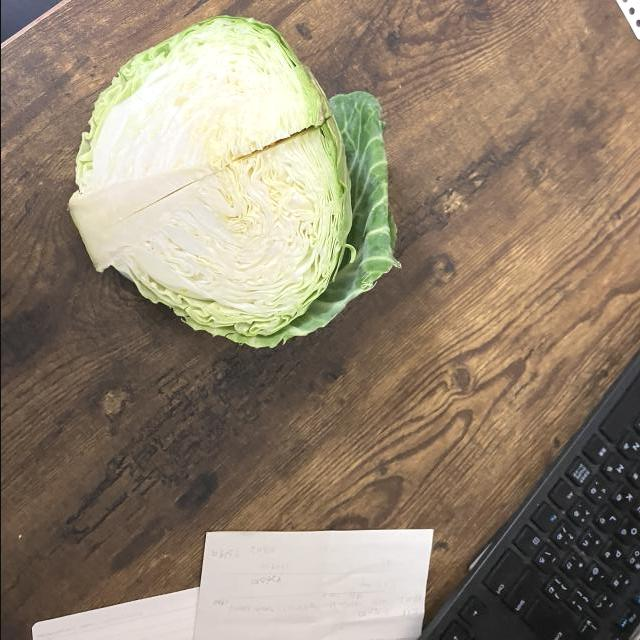cabbage: (64, 13, 404, 353)
